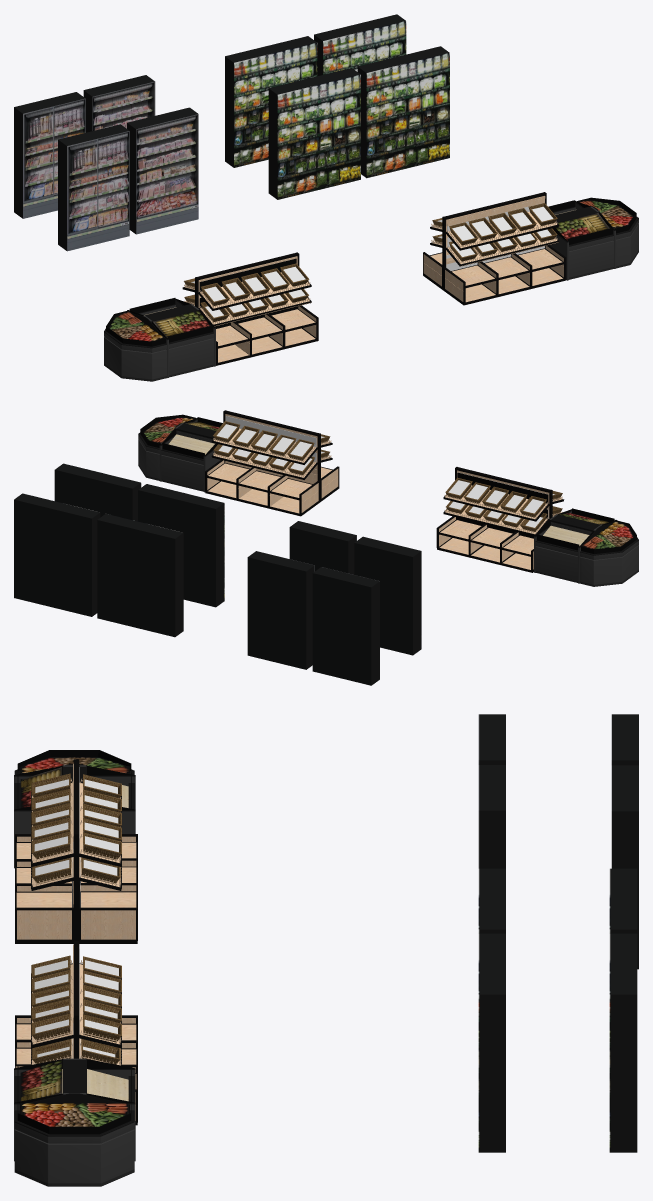
Rendered from food_L3.glb.
3 renders of one model, top to bottom at view 1: azimuth 30°, elevation 25°; view 2: azimuth 150°, elevation 25°; view 3: azimuth 270°, elevation 25°, orthographic. The views are drawn at different scales.
Visible parts, largest first — view 1: _l3_Veges Details, _l3_Vegestable shelf 5&6, _l3_Veges shelf background, _l3_Veges shelf background.001, _l3_Meat shelf background.003, _l3_Meat shelf background.002, _l3_Veges shelf background.003, _l3_Meat shelf background.001, _l3_Veges Details.002, _l3_Veges shelf background.002, _l3_Meat shelf background; view 2: _l3_Veges Details, _l3_Vegestable shelf 5&6, _l3_Veges shelf background.003, _l3_Veges shelf background.002, _l3_Meat shelf background.001, _l3_Meat shelf background, _l3_Veges shelf background, _l3_Meat shelf background.003, _l3_Veges Details.002, _l3_Veges shelf background.001, _l3_Meat shelf background.002; view 3: _l3_Veges Details, _l3_Vegestable shelf 5&6, _l3_Veges Details.002, _l3_Veges shelf background.002, _l3_Veges shelf background.001, _l3_Meat shelf background, _l3_Meat shelf background.002, _l3_Veges shelf background.003, _l3_Veges shelf background, _l3_Meat shelf background.001, _l3_Meat shelf background.003.
Part boxes in pixels (x1,y1,x2,y2): _l3_Veges Details: (182,192,566,365); _l3_Vegestable shelf 5&6: (104,197,638,381); _l3_Veges shelf background: (268,68,360,199); _l3_Veges shelf background.001: (357,46,449,178); _l3_Meat shelf background.003: (58,124,129,251); _l3_Meat shelf background.002: (127,107,198,234); _l3_Veges shelf background.003: (225,36,317,167); _l3_Meat shelf background.001: (14,92,85,218); _l3_Veges Details.002: (184,203,557,321); _l3_Veges shelf background.002: (314,14,406,76); _l3_Meat shelf background: (83,75,155,132); _l3_Veges Details: (205,410,564,572); _l3_Vegestable shelf 5&6: (138,414,638,586); _l3_Veges shelf background.003: (97,514,183,637); _l3_Veges shelf background.002: (14,493,100,616); _l3_Meat shelf background.001: (312,567,379,685); _l3_Meat shelf background: (247,551,314,669); _l3_Veges shelf background: (138,484,224,607); _l3_Meat shelf background.003: (354,536,421,655); _l3_Veges Details.002: (213,421,562,531); _l3_Veges shelf background.001: (54,463,141,521); _l3_Meat shelf background.002: (289,521,356,574); _l3_Veges Details: (15,759,137,1125); _l3_Vegestable shelf 5&6: (14,750,135,1186); _l3_Veges Details.002: (31,773,121,1064); _l3_Veges shelf background.002: (609,933,637,1152); _l3_Veges shelf background.001: (478,933,505,1152); _l3_Meat shelf background: (611,765,638,969); _l3_Meat shelf background.002: (478,765,505,868); _l3_Veges shelf background.003: (609,868,637,933); _l3_Veges shelf background: (478,868,505,933); _l3_Meat shelf background.001: (611,714,638,765); _l3_Meat shelf background.003: (478,714,505,764).
Bounding box in the file's own units: 13.3 × 2.59 × 9.26.
28 materials, 13 textured.
